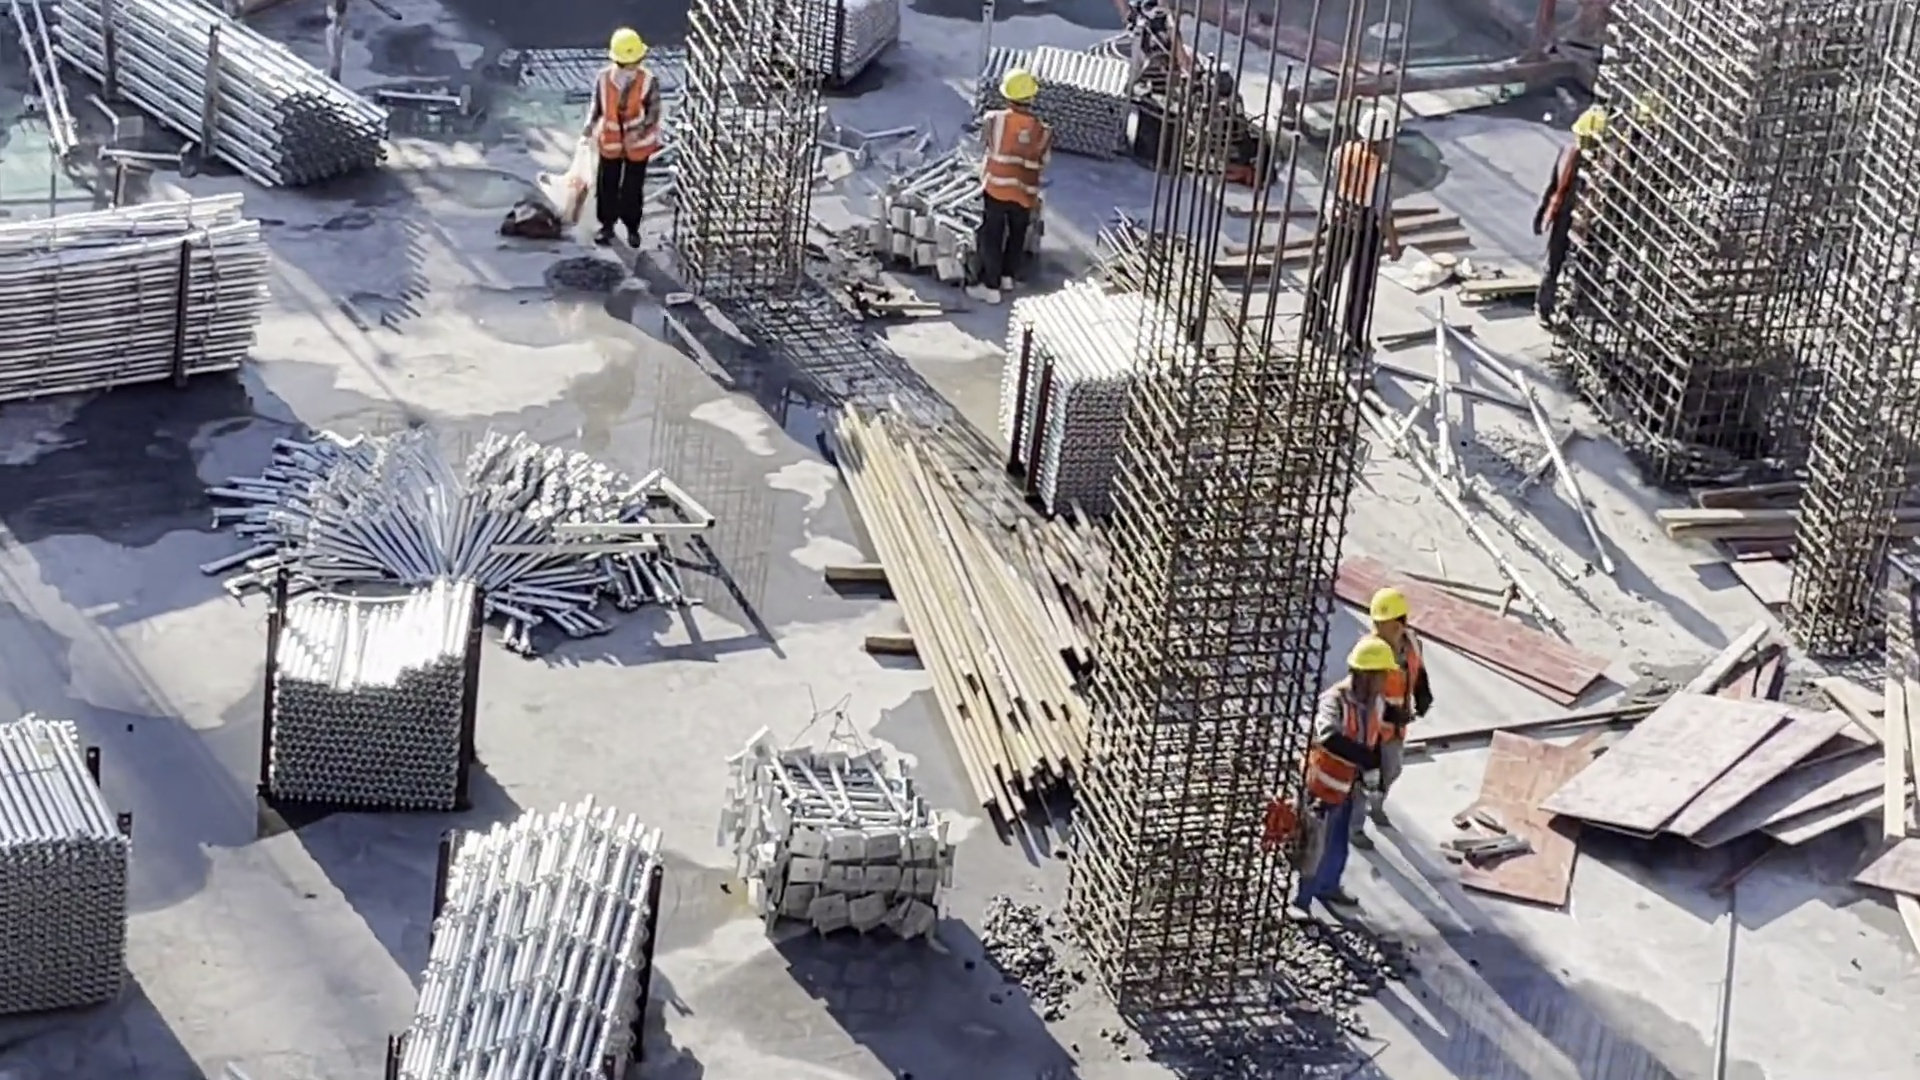board: (1348, 555, 1920, 904)
helmet: (1341, 633, 1400, 689), (1357, 104, 1397, 152), (996, 61, 1033, 109), (1372, 583, 1408, 624), (613, 26, 644, 60)
person: (1319, 632, 1406, 924), (566, 16, 659, 260), (1362, 582, 1429, 861), (970, 67, 1049, 297), (1328, 90, 1391, 345), (1543, 95, 1603, 319)
rebar: (822, 389, 1101, 850)
scaffold: (1, 8, 400, 205), (413, 801, 662, 1080), (1, 202, 270, 408), (716, 719, 949, 948), (260, 586, 479, 819), (998, 281, 1231, 493), (1, 701, 152, 1020), (976, 31, 1144, 167), (876, 131, 1009, 296), (718, 1, 911, 81)
vest: (1312, 686, 1394, 813), (972, 104, 1050, 213), (1362, 637, 1424, 739), (590, 76, 663, 160), (1329, 150, 1392, 233)
